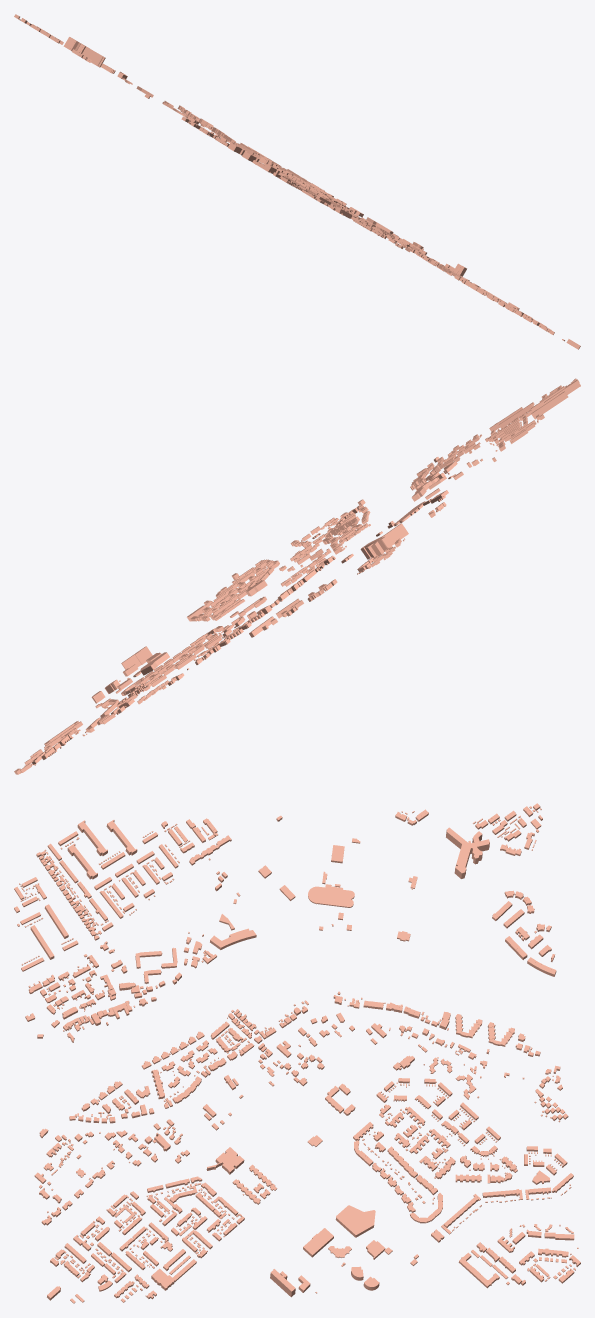
The picture shows the model from 3 angles, top to bottom: view 1: azimuth 30°, elevation 25°; view 2: azimuth 150°, elevation 25°; view 3: azimuth 270°, elevation 25°; orthographic projection. The views are drawn at different scales.
Bounding box in the file's own units: 1046 × 757 × 1271.
